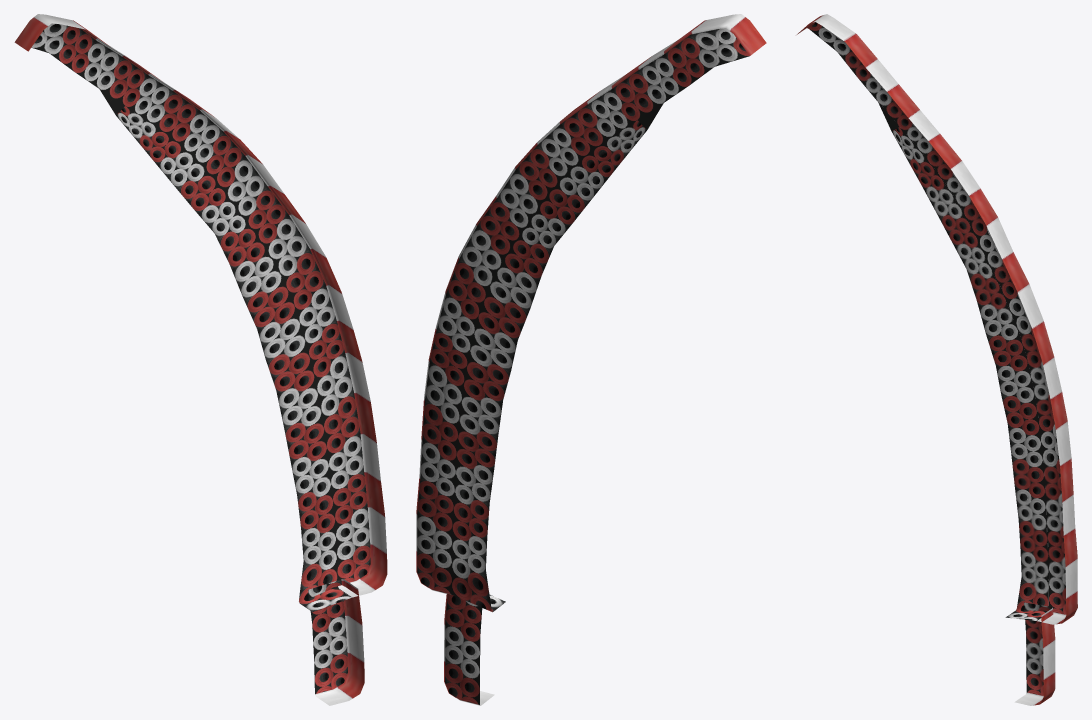
The model's file is _1WALL_tires01_01_002.obj.
3 renders of one model, left to right at view 1: azimuth 30°, elevation 25°; view 2: azimuth 150°, elevation 25°; view 3: azimuth 330°, elevation 25°, orthographic. The views are drawn at different scales.
Visible parts, largest first — view 1: _1WALL_tires01_01_002_Scene.375; view 2: _1WALL_tires01_01_002_Scene.375; view 3: _1WALL_tires01_01_002_Scene.375.
Part boxes in pixels (box(x1,y1,x2,y2)): _1WALL_tires01_01_002_Scene.375: box(14, 14, 387, 705); _1WALL_tires01_01_002_Scene.375: box(416, 14, 766, 705); _1WALL_tires01_01_002_Scene.375: box(797, 14, 1077, 705).
Bounding box in the file's own units: 1475 × 3025 × 271.
